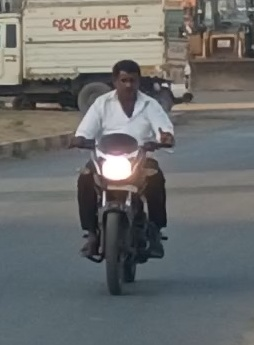BikeWithRider: (62, 57, 180, 297)
NoHelmet: (110, 58, 143, 99)
